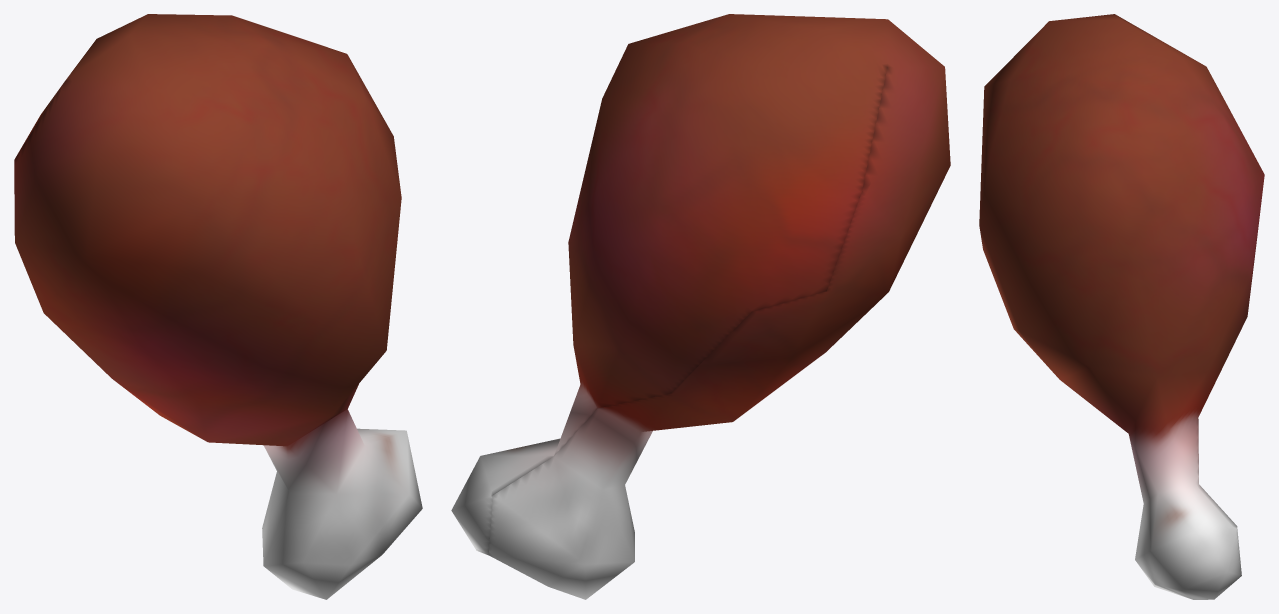
File: meat.fbx
The picture shows the model from 3 angles, left to right: view 1: azimuth 30°, elevation 25°; view 2: azimuth 150°, elevation 25°; view 3: azimuth 270°, elevation 25°; orthographic projection. The views are drawn at different scales.
Parts seen in each view (by area): view 1: Object_3; view 2: Object_3; view 3: Object_3.
Boxes of the visible parts, box(x1,y1,x2,y2) form: Object_3: box(14, 14, 422, 599); Object_3: box(451, 14, 950, 599); Object_3: box(979, 14, 1264, 599).
Size of the model in its own units: 78.14 by 109 by 57.44.
